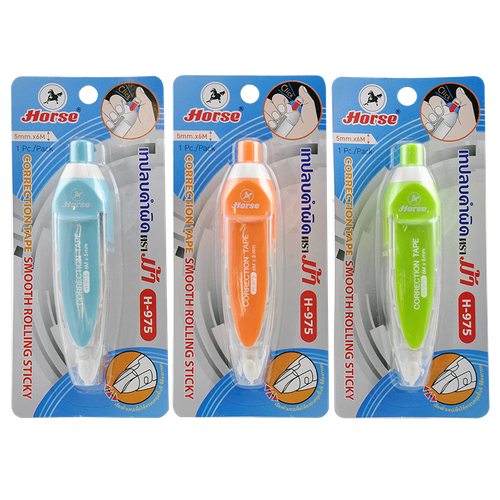Correction_fluid: (380, 133, 441, 390), (219, 135, 280, 392), (50, 132, 111, 389)
